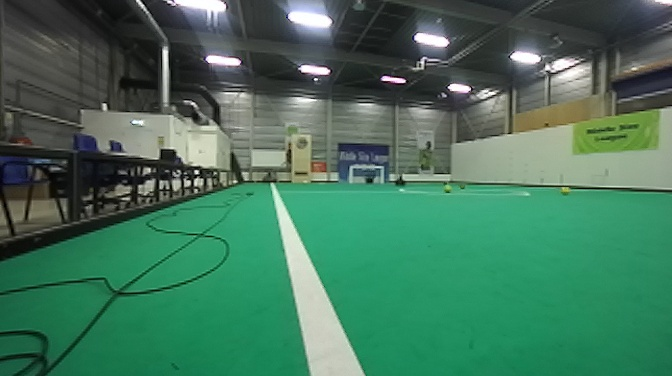ball: (560, 185, 571, 196), (443, 182, 453, 194)
goal: (345, 165, 387, 185)
robot: (392, 169, 407, 187)
